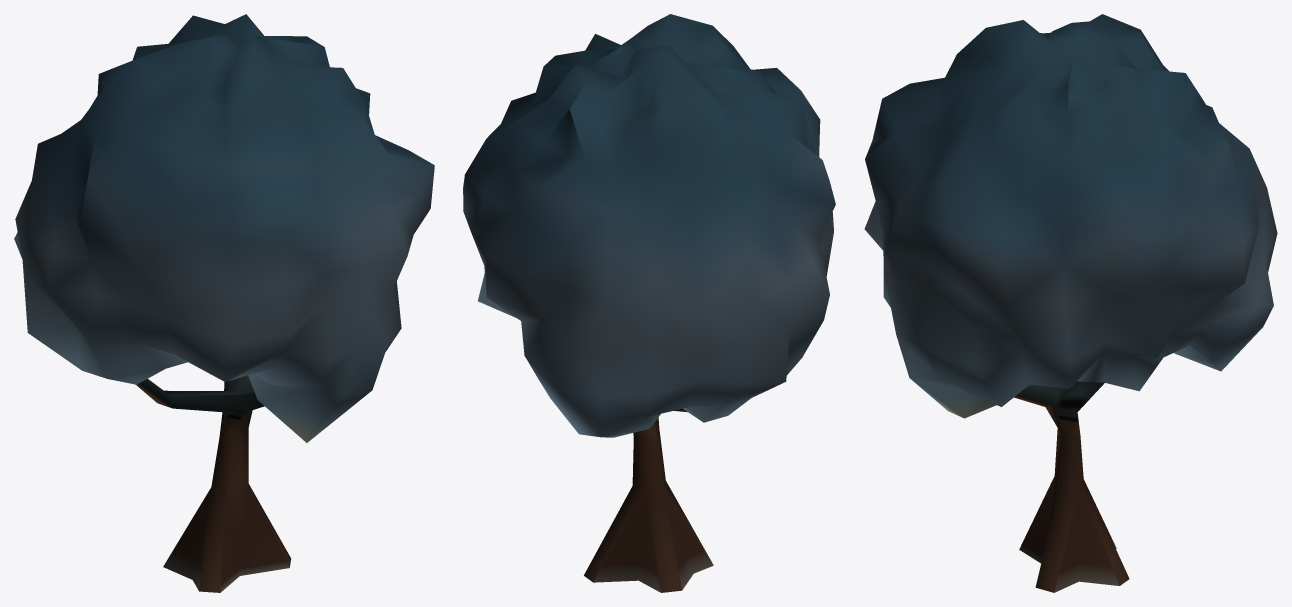
The model's file is Tree_2I.fbx.
The picture shows the model from 3 angles, left to right: view 1: azimuth 30°, elevation 25°; view 2: azimuth 150°, elevation 25°; view 3: azimuth 270°, elevation 25°; orthographic projection.
Parts seen in each view (by area): view 1: Tree_2I; view 2: Tree_2I; view 3: Tree_2I.
Boxes of the visible parts, x1=… form: Tree_2I: x1=14, y1=14, x2=434, y2=592; Tree_2I: x1=463, y1=14, x2=835, y2=592; Tree_2I: x1=864, y1=14, x2=1277, y2=592.
Size of the model in its own units: 6.85 by 10.33 by 7.08.
